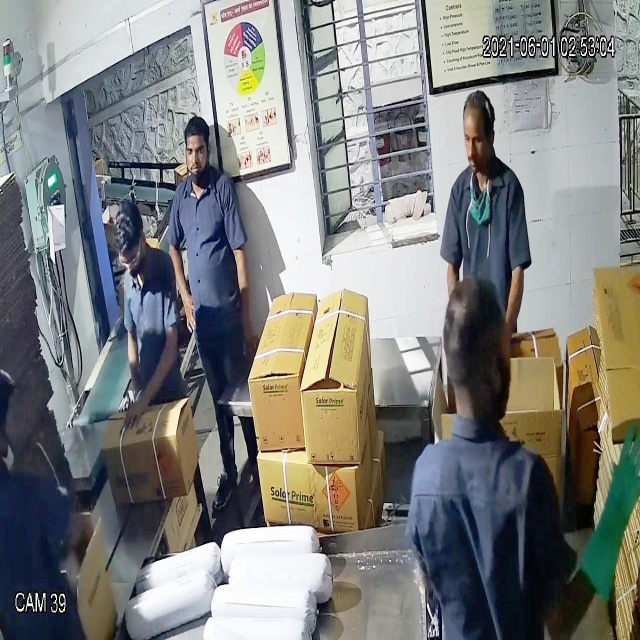Gafas: (114, 243, 149, 276)
Sin_gafas: (459, 124, 499, 158)
